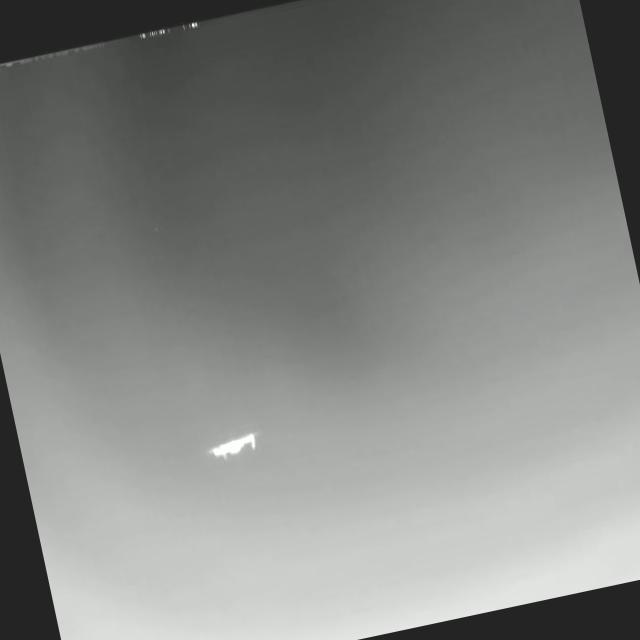DRONE: (198, 420, 264, 470)
